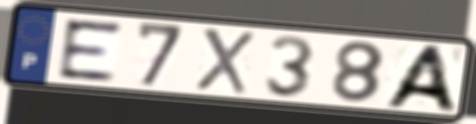3: (262, 35, 319, 100)
7: (134, 19, 187, 89)
8: (329, 39, 387, 105)
A: (378, 43, 462, 115)
E: (56, 17, 125, 83)
X: (193, 25, 257, 97)
